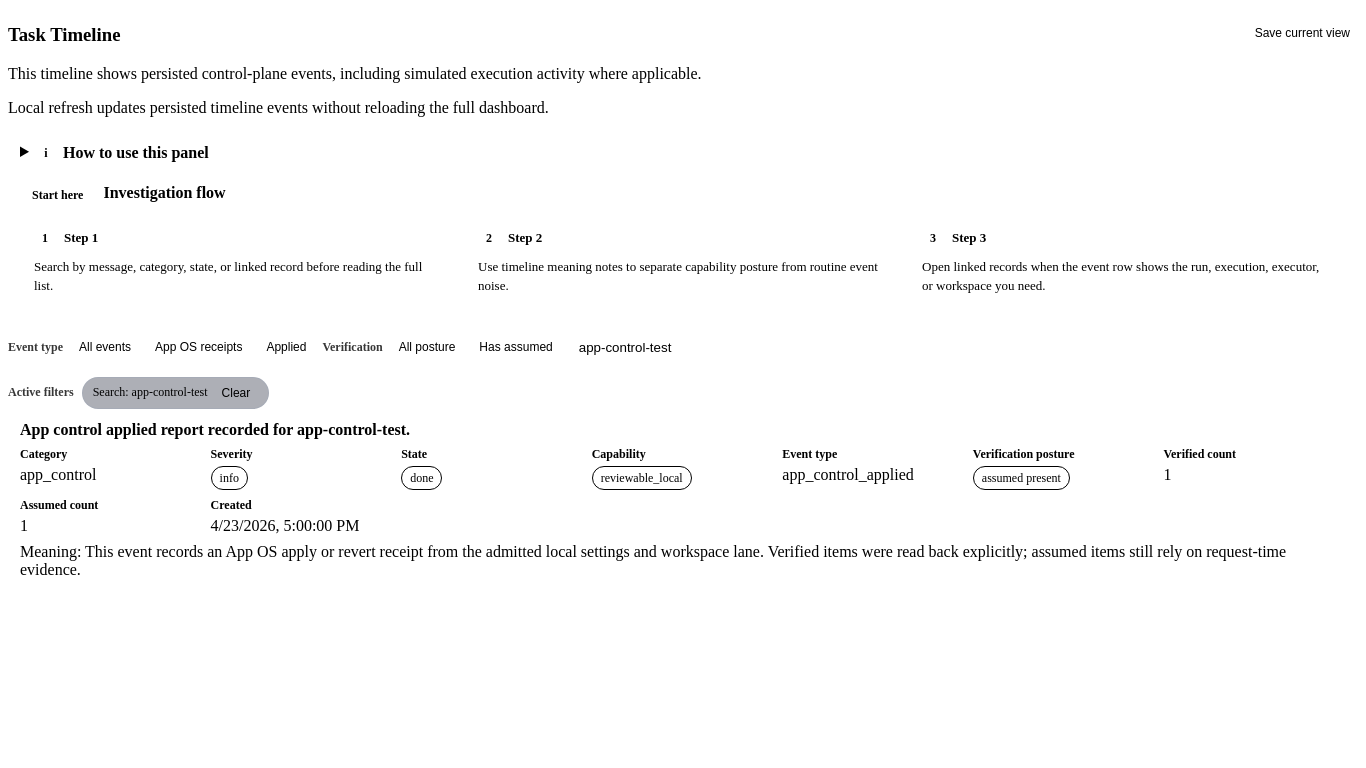
TaskTimeline › dismisses save feedback immediately when requested
Click the button "Save current view" at coordinates (1302, 33), box [1247, 24, 1358, 42]
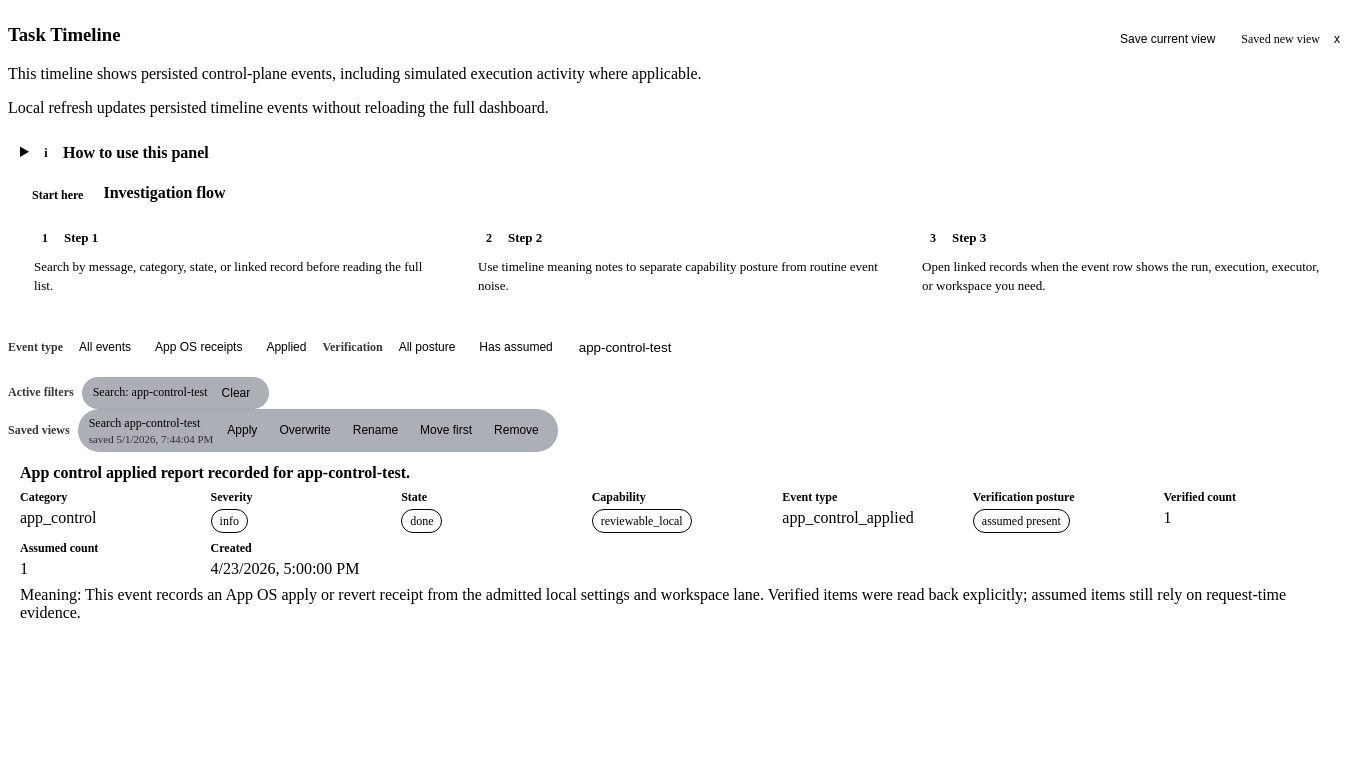
Expected: the text "Saved new view" is shown, [1241, 32, 1320, 46]
Click the button named "Dismiss save feedback" at coordinates (1337, 39), box [1326, 30, 1348, 48]
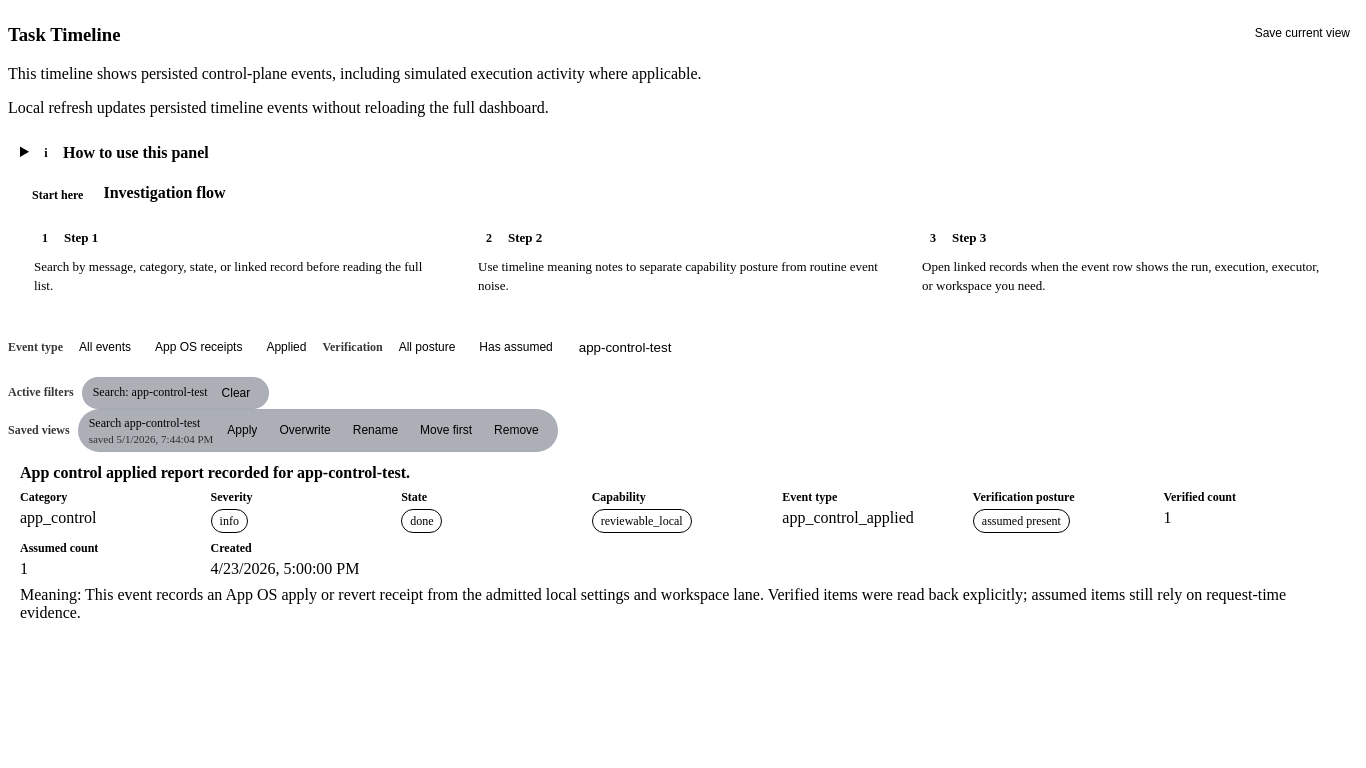
Expected: the text "Saved new view" is gone
